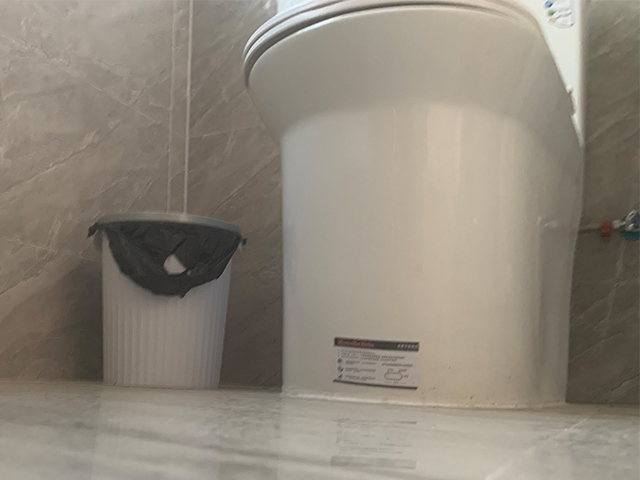closestool: (238, 1, 585, 408)
trashcan: (97, 210, 244, 389)
